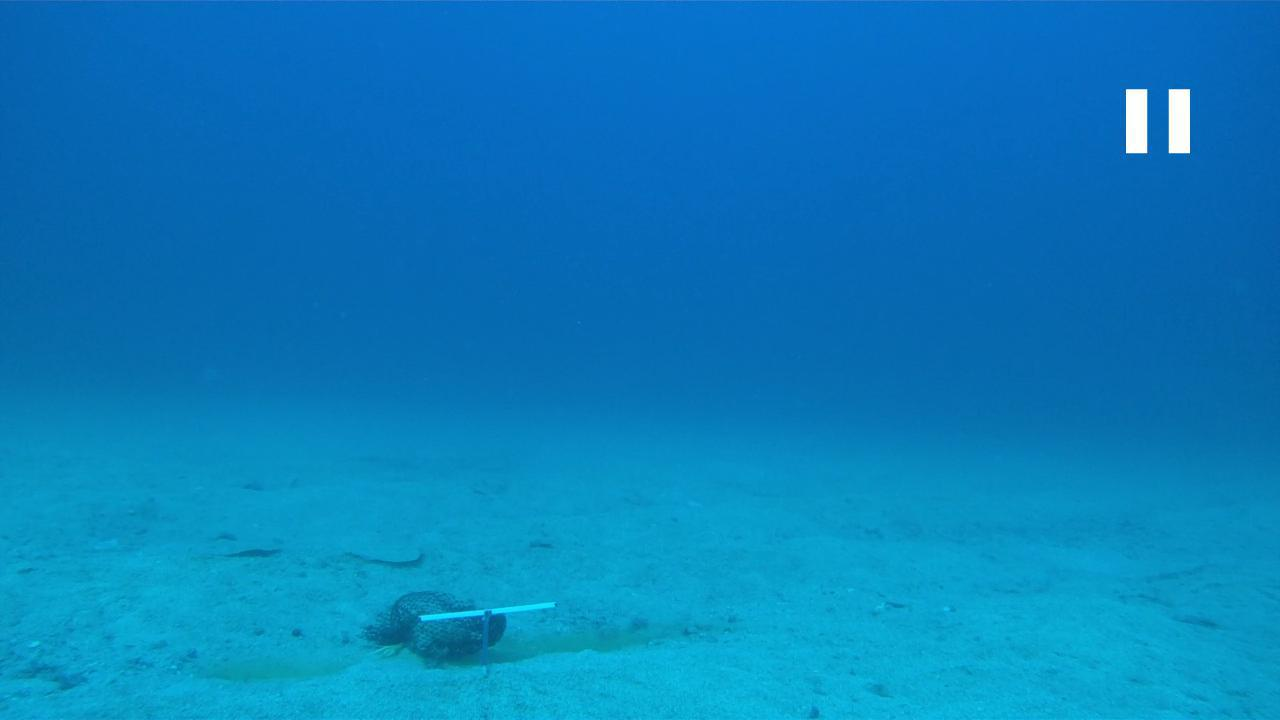bothus: (332, 541, 427, 570), (210, 542, 280, 562)
